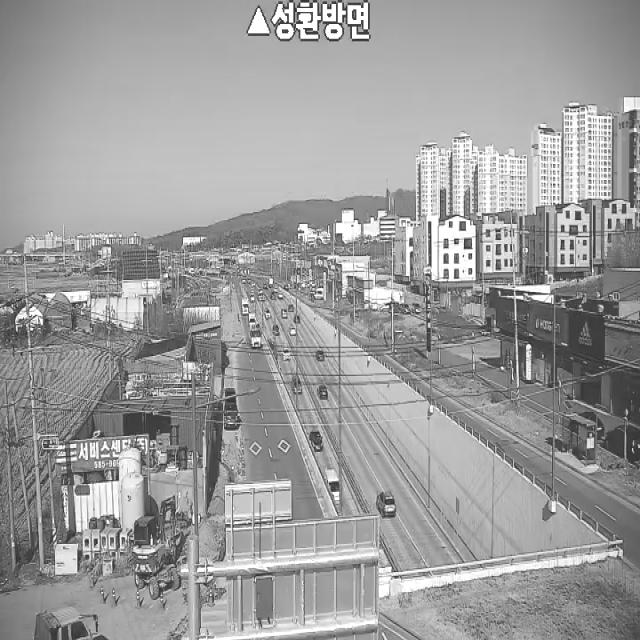Car: (605, 424, 640, 460), (573, 411, 604, 441), (376, 491, 396, 519), (309, 431, 324, 452), (292, 375, 302, 394), (318, 384, 328, 400), (282, 347, 291, 361), (316, 350, 324, 362), (273, 324, 280, 336), (281, 309, 288, 318), (290, 326, 296, 336), (265, 309, 271, 319), (294, 316, 300, 324), (288, 304, 294, 312), (278, 291, 283, 299)
Truck: (123, 493, 190, 599), (34, 607, 99, 640), (323, 469, 340, 508), (223, 388, 237, 428), (250, 324, 262, 348), (241, 298, 249, 314), (249, 313, 256, 326)
